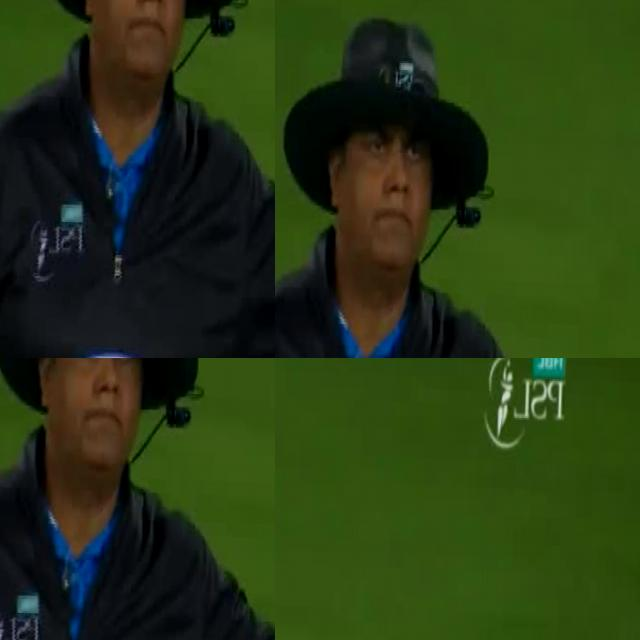No_Ball: (275, 403, 640, 640)
Wide: (529, 17, 640, 358)
